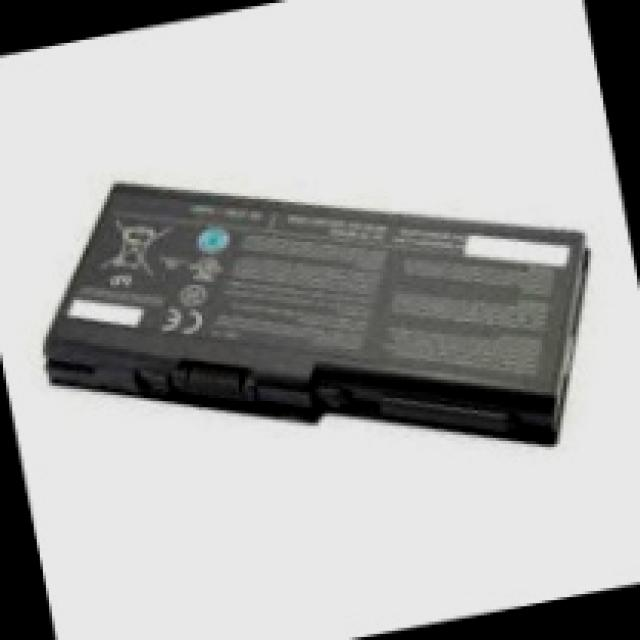elektronik: (79, 174, 588, 445)
